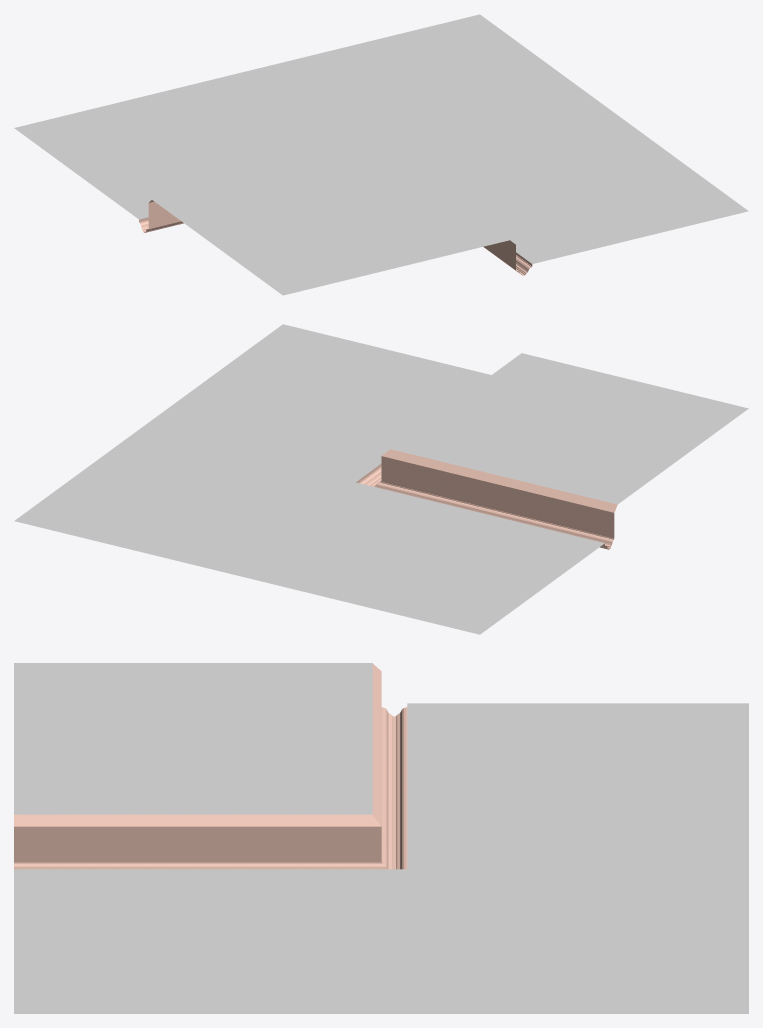
File: Shop_Roof_Indent_Corner.fbx
The picture shows the model from 3 angles, top to bottom: view 1: azimuth 30°, elevation 25°; view 2: azimuth 150°, elevation 25°; view 3: azimuth 270°, elevation 25°; orthographic projection. The views are drawn at different scales.
Visible parts, largest first — view 1: Roof_Indent_Corner; view 2: Roof_Indent_Corner; view 3: Roof_Indent_Corner.
Boxes of the visible parts, bbox=[...] form: Roof_Indent_Corner: bbox=[14, 14, 748, 295]; Roof_Indent_Corner: bbox=[14, 324, 748, 634]; Roof_Indent_Corner: bbox=[14, 663, 748, 1013].
Bounding box in the file's own units: 100 × 7.98 × 100.
